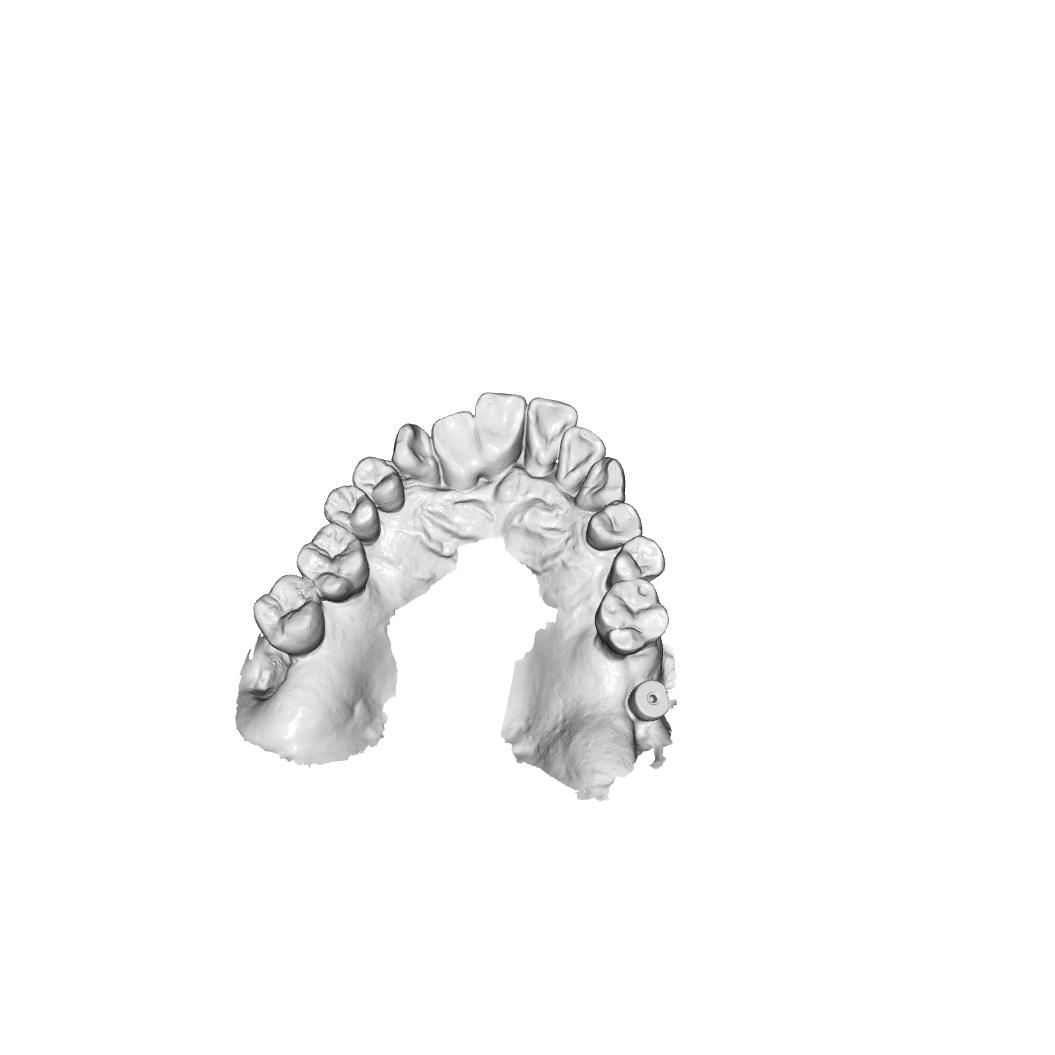canine: (392, 422, 441, 488), (574, 456, 627, 512)
implant: (626, 679, 676, 722)
incisor: (473, 390, 527, 476), (524, 396, 579, 480), (430, 410, 479, 490), (554, 425, 608, 494)
molar: (295, 521, 372, 605), (252, 573, 326, 657), (593, 579, 670, 657)
premolar: (323, 484, 381, 542), (606, 535, 666, 588), (351, 456, 406, 513), (585, 499, 644, 551)
